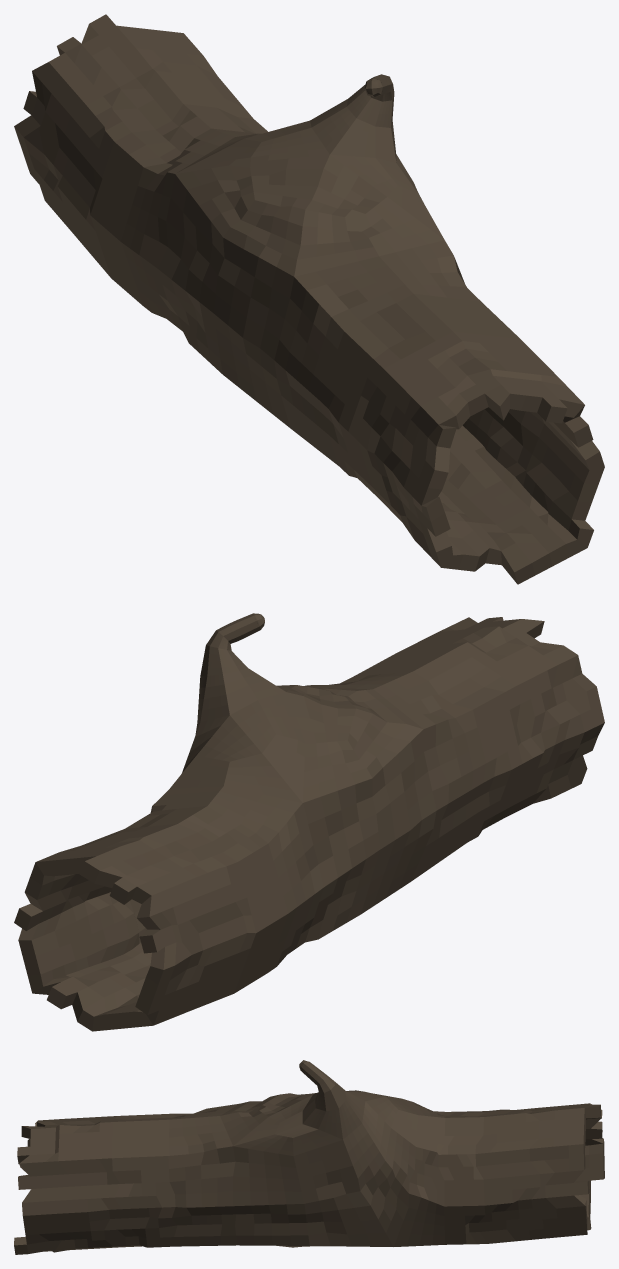
The model's file is FallenLog1.fbx.
3 views of the same model, one above another, from view 1: azimuth 30°, elevation 25°; view 2: azimuth 150°, elevation 25°; view 3: azimuth 270°, elevation 25° (orthographic). The views are drawn at different scales.
Parts seen in each view (by area): view 1: Cube; view 2: Cube; view 3: Cube.
Boxes of the visible parts, x1=… form: Cube: x1=14, y1=14, x2=604, y2=584; Cube: x1=14, y1=613, x2=604, y2=1031; Cube: x1=14, y1=1060, x2=604, y2=1254.
Size of the model in its own units: 173 by 260 by 657.
